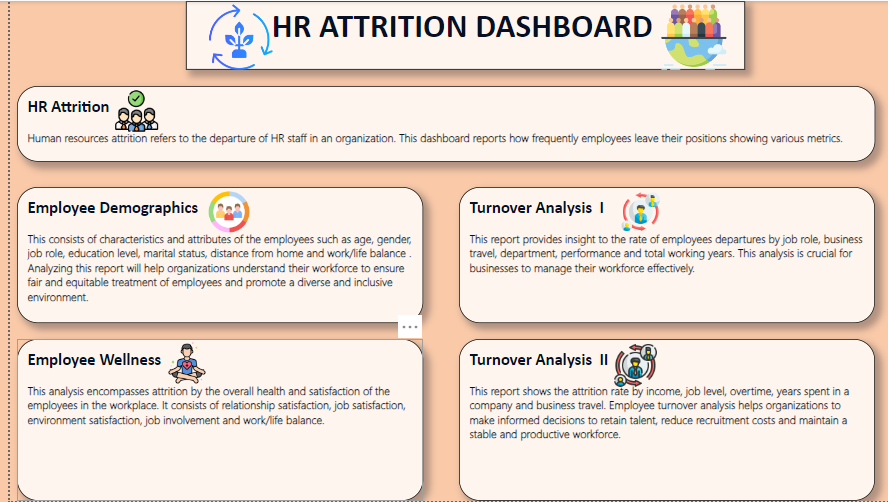

What the dashboard file says about the page in this screenshot:
{"tool":"powerbi","page":{"name":"Overview","canvas":[1280,720],"ordinal":0},"visuals":[{"type":"textbox","box":[10.1,267.8,584.6,195.8],"z":0},{"type":"textbox","box":[253.4,0,805,99.4],"z":1000},{"type":"textbox","box":[646.6,267.8,599,195.8],"z":2000},{"type":"textbox","box":[646.6,486.7,599,233.3],"z":3000},{"type":"textbox","box":[10.1,486.7,584.6,233.3],"z":4000},{"type":"textbox","box":[10.1,122.4,1235.5,109.4],"z":5000},{"type":"image","box":[254.9,267.8,119.5,70.6],"z":6000},{"type":"image","box":[846.7,267.8,122.4,70.6],"z":7000},{"type":"image","box":[836.6,486.7,126.7,76.3],"z":8000},{"type":"image","box":[207.4,486.7,95,69.1],"z":9000},{"type":"image","box":[846.7,0,276.5,103.7],"z":10000},{"type":"image","box":[253.4,0,157,103.7],"z":11000},{"type":"image","box":[99.4,122.4,165.6,72],"z":12000}]}

Visuals, with their boxes in screenshot pixels (x1, y1, x2, y2), scaled from the page's 1280x720 canvas onto the 888x502 screenshot:
textbox: 7,187,413,323
textbox: 176,0,734,69
textbox: 449,187,864,323
textbox: 449,339,864,501
textbox: 7,339,413,501
textbox: 7,85,864,162
image: 177,187,260,236
image: 587,187,672,236
image: 580,339,668,393
image: 144,339,210,388
image: 587,0,779,72
image: 176,0,285,72
image: 69,85,184,136
